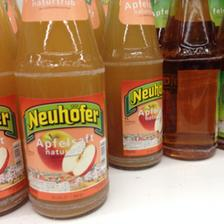Saft: (12, 0, 107, 216), (101, 0, 165, 168), (158, 0, 222, 162)
